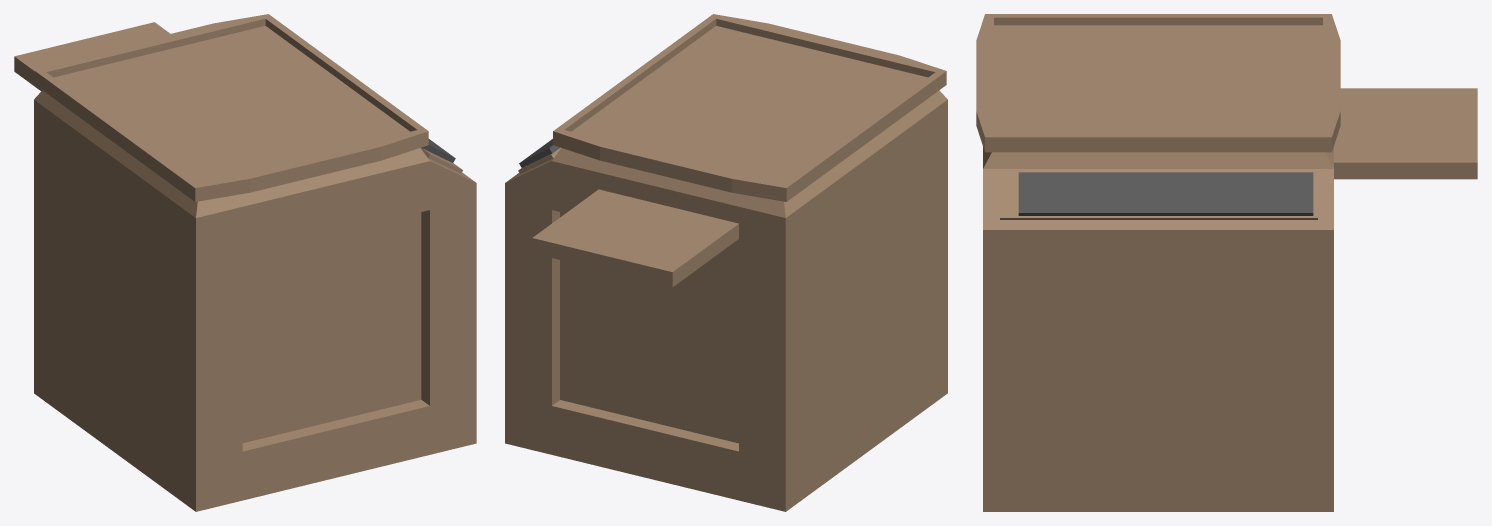
The model's file is copier.fbx.
3 renders of one model, left to right at view 1: azimuth 30°, elevation 25°; view 2: azimuth 150°, elevation 25°; view 3: azimuth 270°, elevation 25°, orthographic. The views are drawn at different scales.
Visible parts, largest first — view 1: pCube4; view 2: pCube4; view 3: pCube4, pCube5.
Part boxes in pixels (<box>): pCube4: <box>14,14,476,511</box>; pCube4: <box>505,14,947,511</box>; pCube4: <box>976,14,1477,511</box>; pCube5: <box>1018,172,1313,215</box>.
Bounding box in the file's own units: 1 × 1.1 × 1.43.
